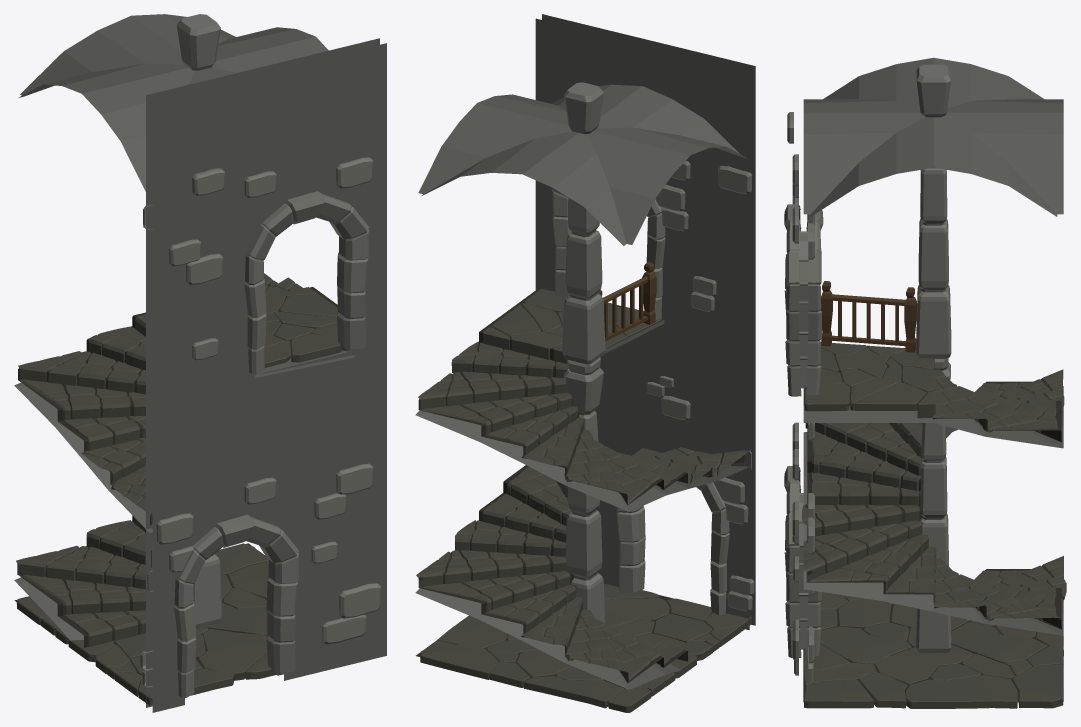
File: Staircase.glb
3 views of the same model, side by side, from view 1: azimuth 30°, elevation 25°; view 2: azimuth 150°, elevation 25°; view 3: azimuth 270°, elevation 25° (orthographic). The views are drawn at different scales.
Parts seen in each view (by area): view 1: Staircase.001; view 2: Staircase.001; view 3: Staircase.001.
Part boxes in pixels (x1,y1,x2,y2): Staircase.001: [14, 14, 386, 712]; Staircase.001: [415, 14, 755, 712]; Staircase.001: [784, 57, 1066, 708].
Size of the model in its own units: 4.16 by 10.03 by 4.35.
3 materials, 3 textured.
